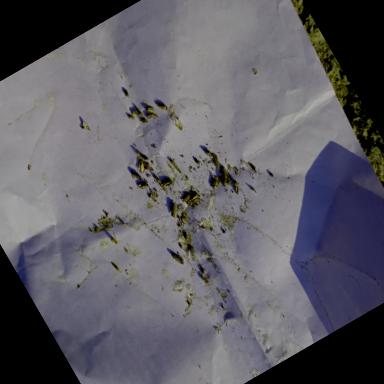pbw: (216, 166, 234, 187), (154, 174, 169, 195), (170, 250, 186, 266), (166, 201, 180, 218), (130, 168, 144, 184), (134, 159, 148, 174), (209, 152, 222, 168), (230, 178, 242, 194), (169, 158, 181, 174), (207, 175, 220, 189), (136, 150, 148, 164), (222, 172, 234, 186), (156, 99, 168, 113), (180, 192, 192, 204), (161, 176, 173, 188), (144, 104, 156, 116), (138, 180, 150, 191), (190, 191, 201, 202), (145, 110, 156, 120), (111, 260, 120, 272), (134, 105, 142, 116), (182, 230, 190, 240)
